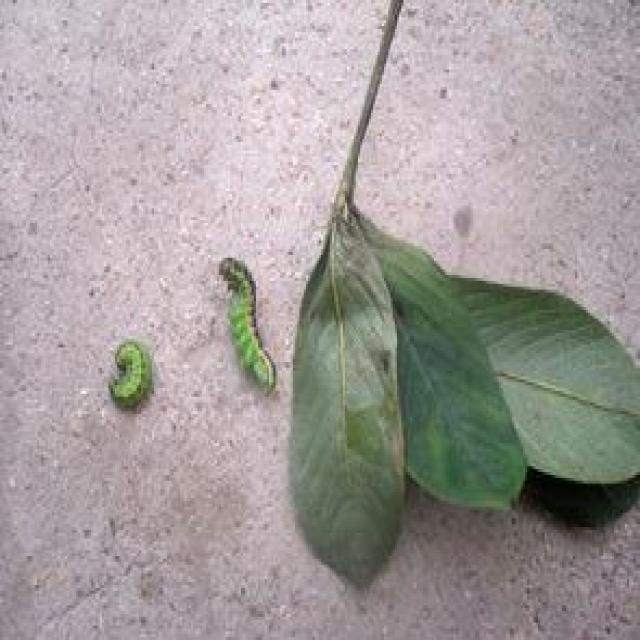BeetArmyWorm-Larva-: (211, 247, 277, 394), (100, 327, 158, 417)
